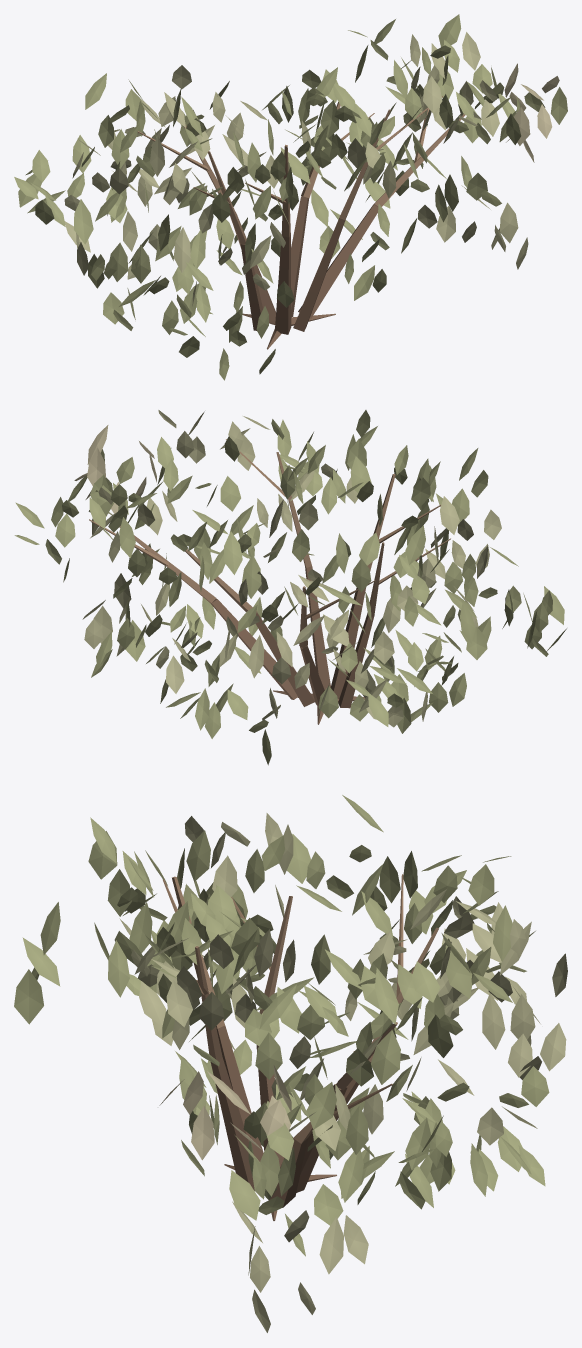
The model's file is bush_3d_05.glb.
3 views of the same model, one above another, from view 1: azimuth 30°, elevation 25°; view 2: azimuth 150°, elevation 25°; view 3: azimuth 270°, elevation 25° (orthographic). The views are drawn at different scales.
Visible parts, largest first — view 1: bush_3d_05_foliage, bush_3d_05_wood; view 2: bush_3d_05_foliage, bush_3d_05_wood; view 3: bush_3d_05_foliage, bush_3d_05_wood.
Part boxes in pixels (x1,y1,x2,y2): bush_3d_05_foliage: (14,14,567,380); bush_3d_05_wood: (138,96,465,349); bush_3d_05_foliage: (14,410,566,765); bush_3d_05_wood: (89,439,450,724); bush_3d_05_foliage: (14,795,567,1332); bush_3d_05_wood: (163,874,438,1220).
Bounding box in the file's own units: 3 × 1.65 × 2.3.
